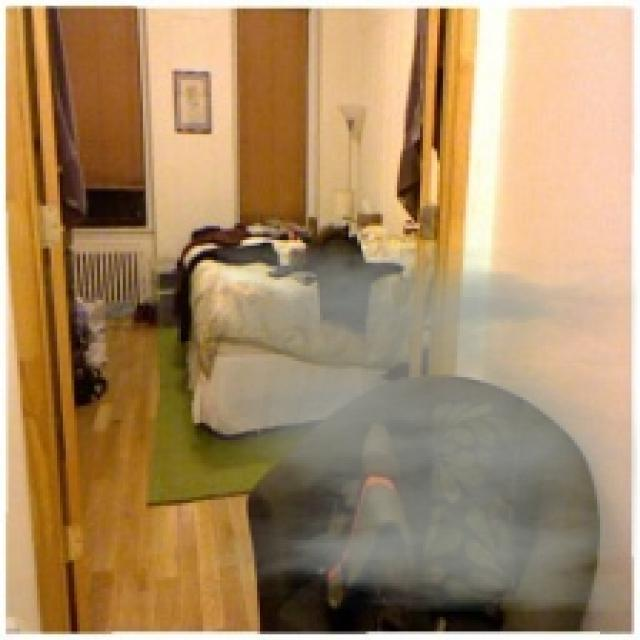Smoke: (212, 246, 637, 612)
